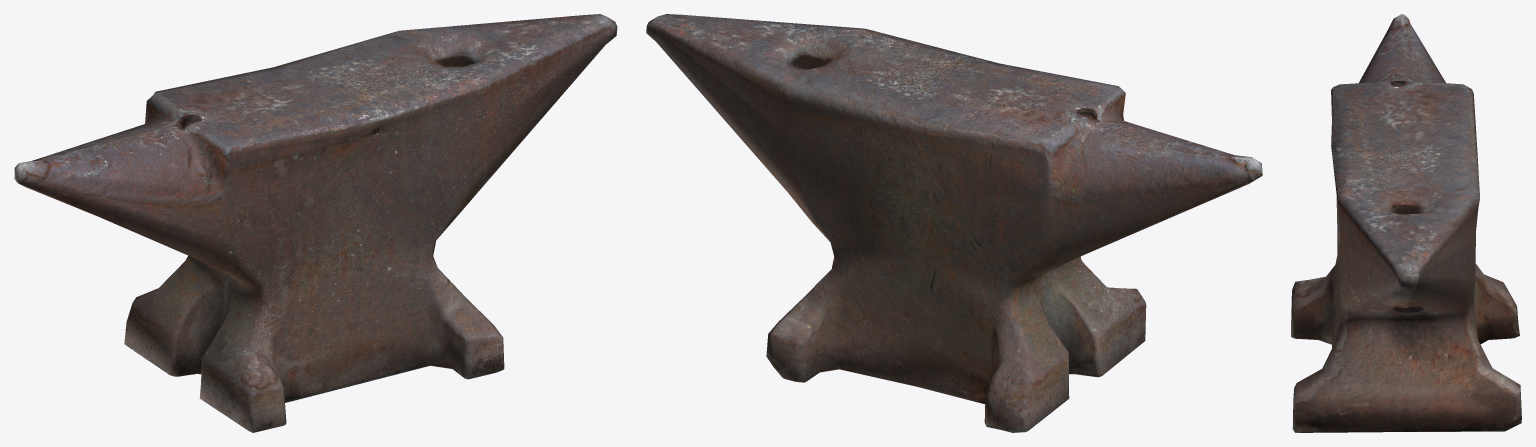
File: workbench.glb
3 views of the same model, side by side, from view 1: azimuth 30°, elevation 25°; view 2: azimuth 150°, elevation 25°; view 3: azimuth 270°, elevation 25° (orthographic). The views are drawn at different scales.
Parts seen in each view (by area): view 1: _3D_Model; view 2: _3D_Model; view 3: _3D_Model.
Boxes of the visible parts, x1=… form: _3D_Model: x1=14, y1=14, x2=617, y2=432; _3D_Model: x1=646, y1=14, x2=1262, y2=432; _3D_Model: x1=1291, y1=14, x2=1521, y2=432.
Size of the model in its own units: 1.68 by 0.7235 by 0.6255.
1 material, 1 textured.
